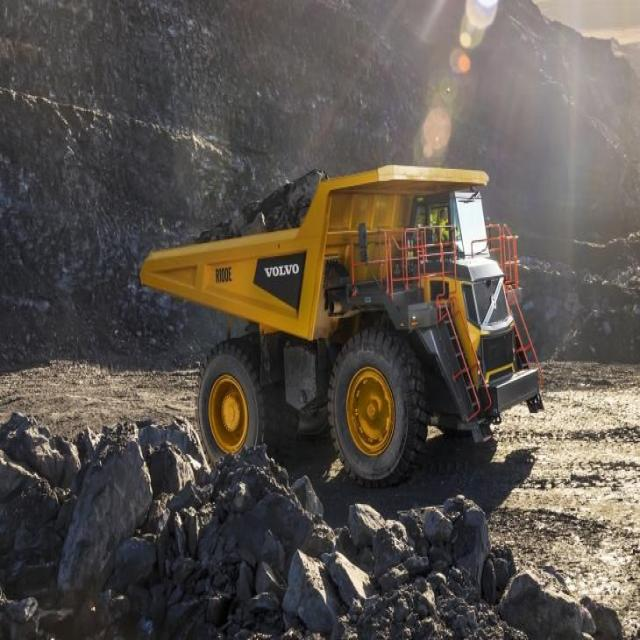dump_truck: (140, 158, 546, 478)
